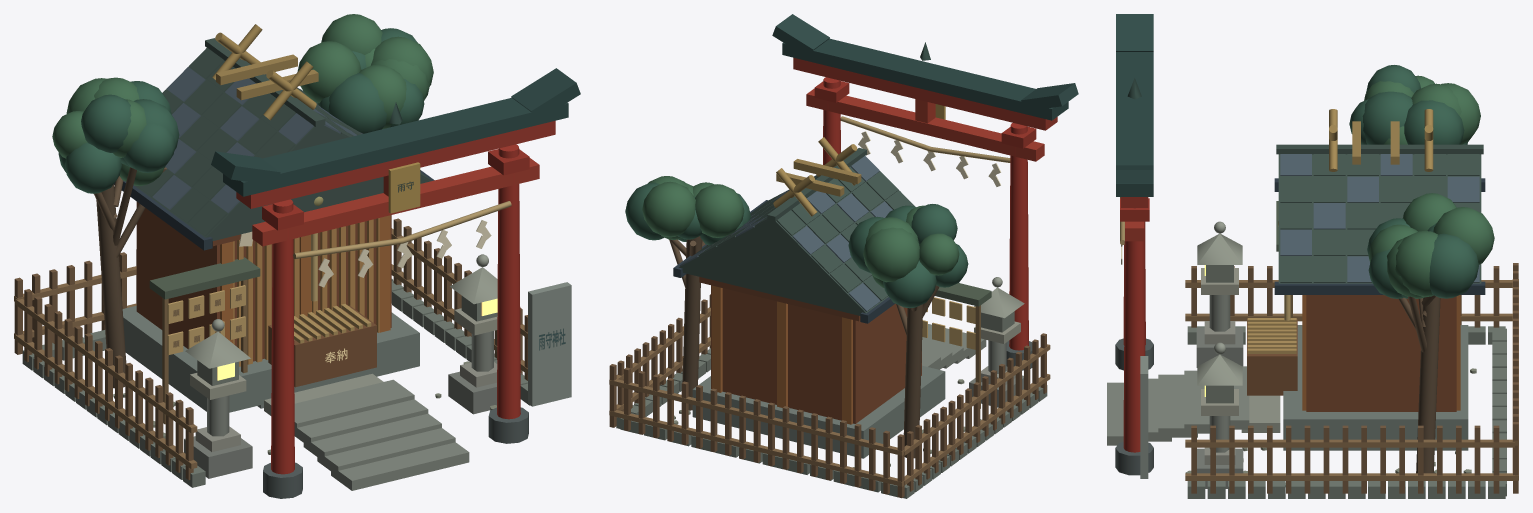
Rendered from shrine.glb.
3 views of the same model, side by side, from view 1: azimuth 30°, elevation 25°; view 2: azimuth 150°, elevation 25°; view 3: azimuth 270°, elevation 25° (orthographic). The views are drawn at different scales.
Parts seen in each view (by area): view 1: 雨守神社; view 2: 雨守神社; view 3: 雨守神社.
Boxes of the visible parts, x1,y1,x2,y2 form: 雨守神社: (14,14,580,498); 雨守神社: (609,14,1078,498); 雨守神社: (1107,14,1518,498).
Bounding box in the file's own units: 5.12 × 4.68 × 5.13.
Materials: 63 (11 with a texture image).
